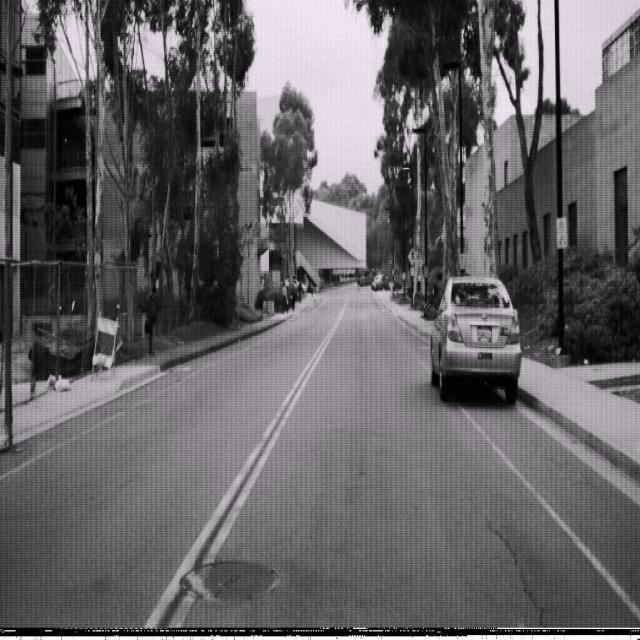pedestrianCrossing: (407, 245, 417, 266)
